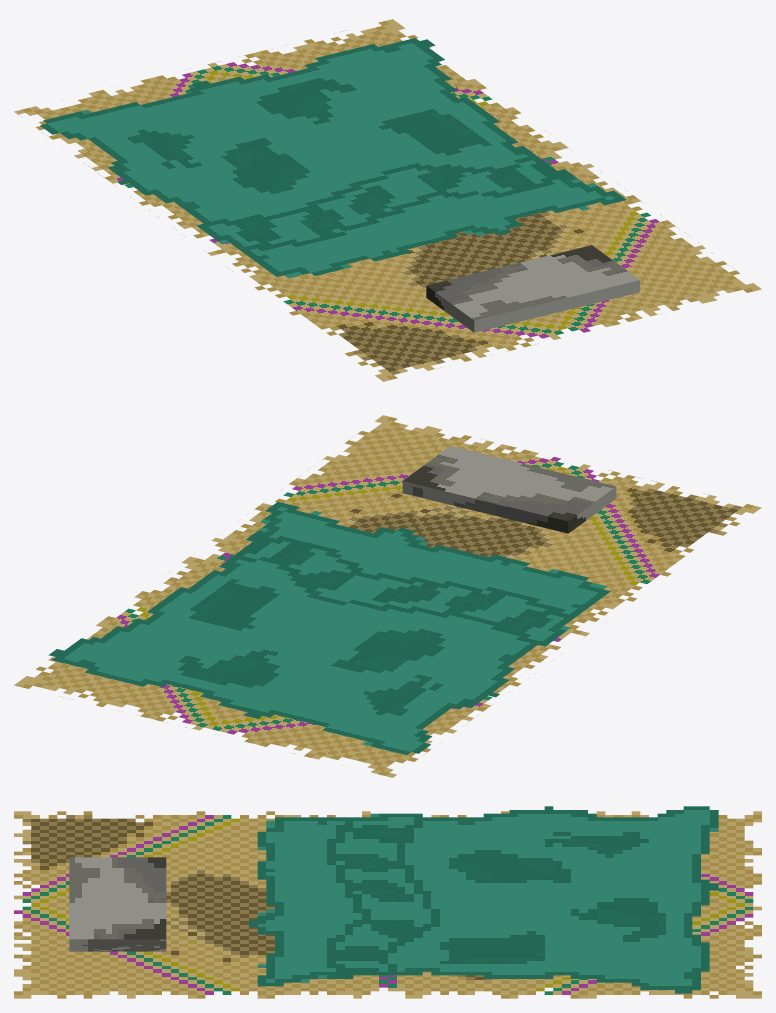
File: Banig.gltf
3 renders of one model, top to bottom at view 1: azimuth 30°, elevation 25°; view 2: azimuth 150°, elevation 25°; view 3: azimuth 270°, elevation 25°, orthographic.
Parts seen in each view (by area): view 1: cube (×3); view 2: cube (×3); view 3: cube (×3).
Boxes of the visible parts, x1,y1,x2,y2 form: cube (×3): (14, 19, 761, 381); cube (×3): (14, 415, 761, 777); cube (×3): (14, 806, 761, 998).
Bounding box in the file's own units: 0.2 × 0.00625 × 0.3375.
3 materials, 3 textured.
